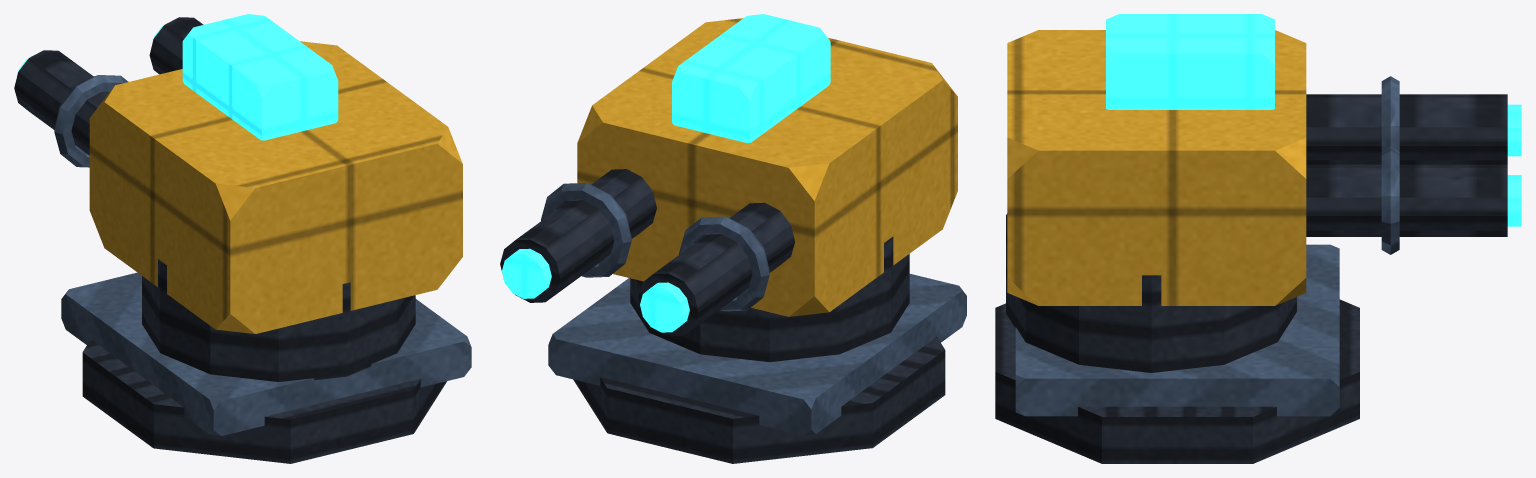
The model's file is eq_mining_advanced.glb.
3 views of the same model, side by side, from view 1: azimuth 30°, elevation 25°; view 2: azimuth 150°, elevation 25°; view 3: azimuth 270°, elevation 25° (orthographic). The views are drawn at different scales.
Parts seen in each view (by area): view 1: eq_mining_advanced; view 2: eq_mining_advanced; view 3: eq_mining_advanced.
Part boxes in pixels (<box>): eq_mining_advanced: <box>14,14,471,463</box>; eq_mining_advanced: <box>500,14,966,463</box>; eq_mining_advanced: <box>995,14,1521,463</box>.
Bounding box in the file's own units: 1.4 × 1.5 × 2.03.
Materials: 1 (1 with a texture image).
